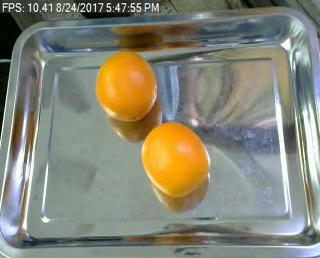Orange: (140, 121, 210, 198), (95, 50, 159, 122)
